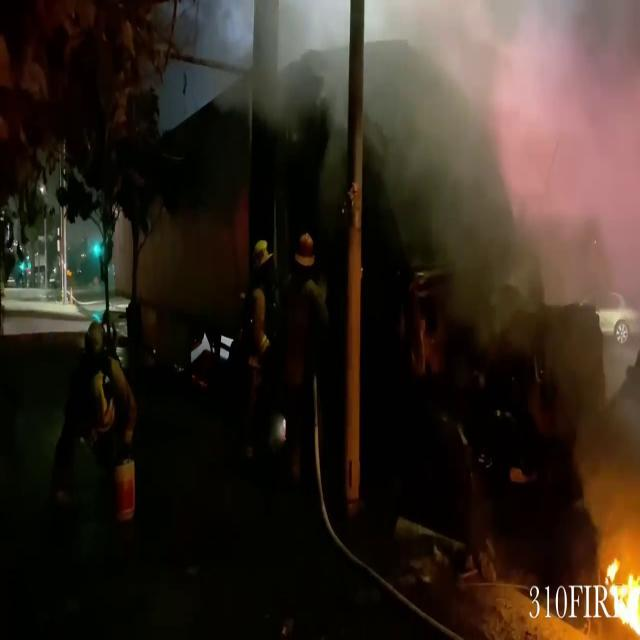Fire: (599, 552, 640, 638)
Smoke: (365, 0, 640, 306)
